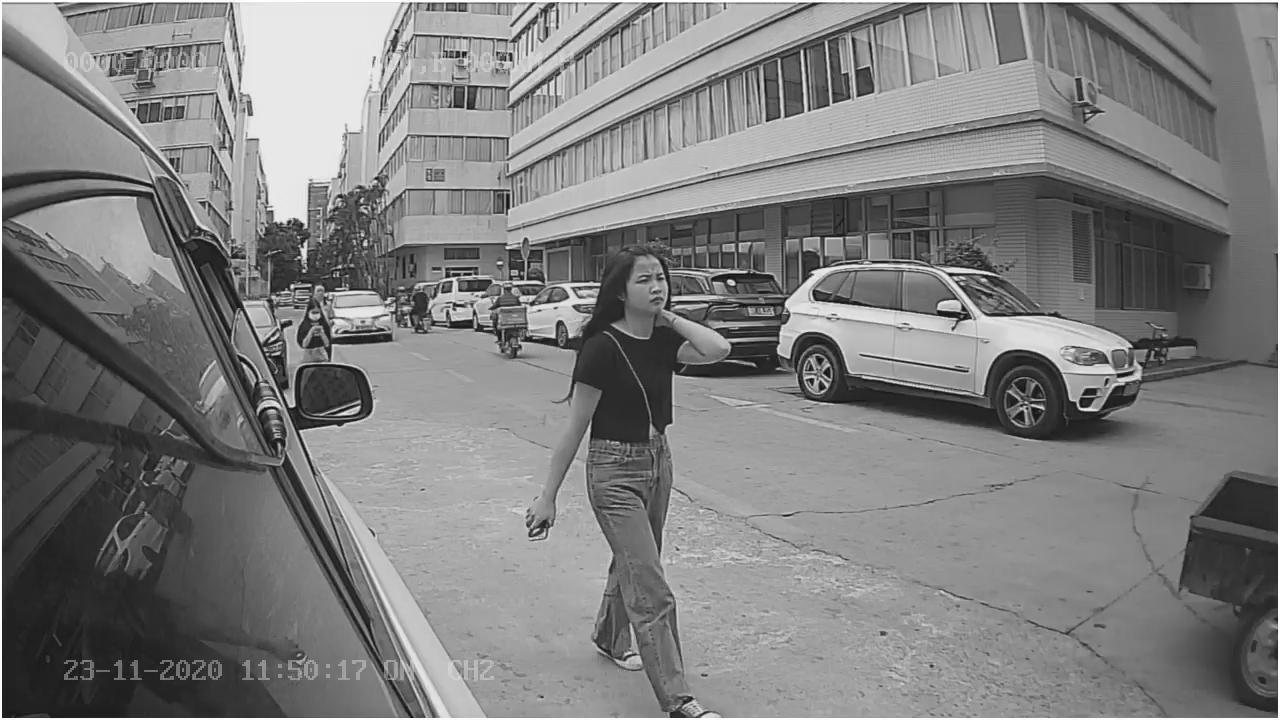person: (519, 239, 734, 715)
